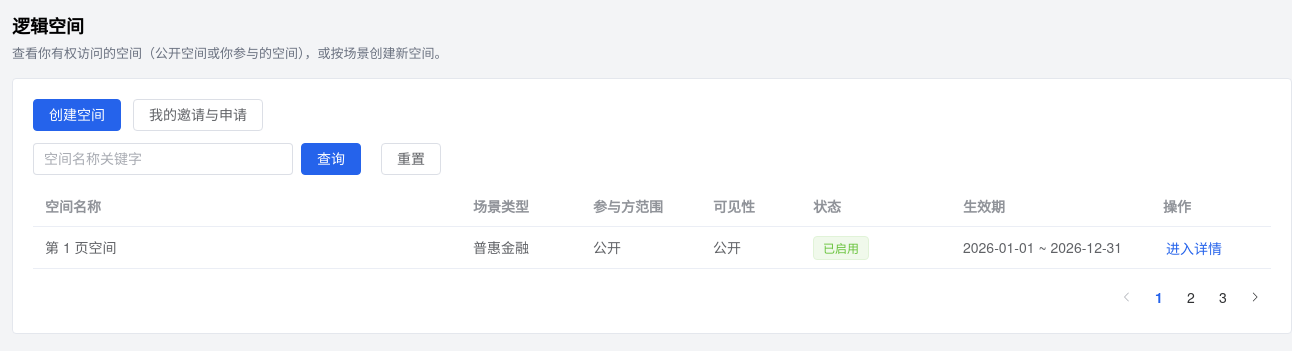
Test: 列表渲染（T5） › 翻页：按新页码与每页条数重新拉取并刷新列表（T5 分页刷新）
Click the button with class "btn-next". click: (1255, 297)
box: [1239,281,1271,313]
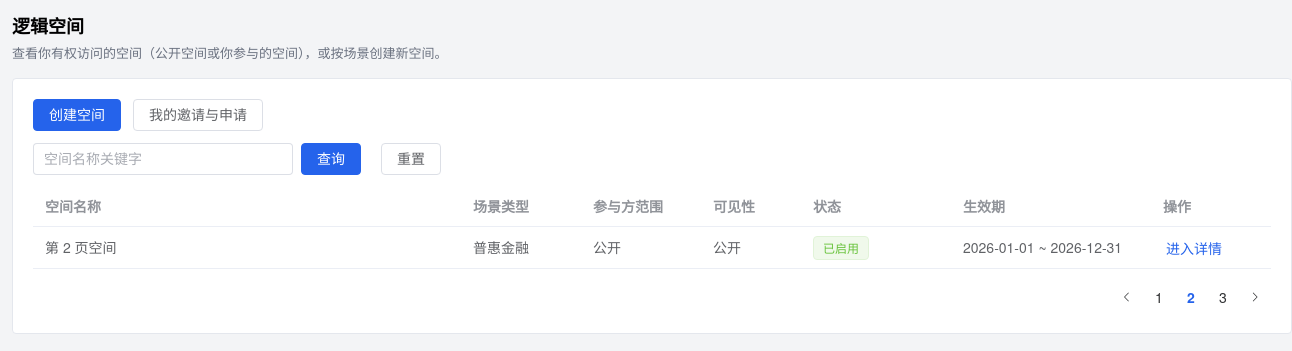
expect the text "第 2 页空间" is shown: met, box [45,237,117,257]
